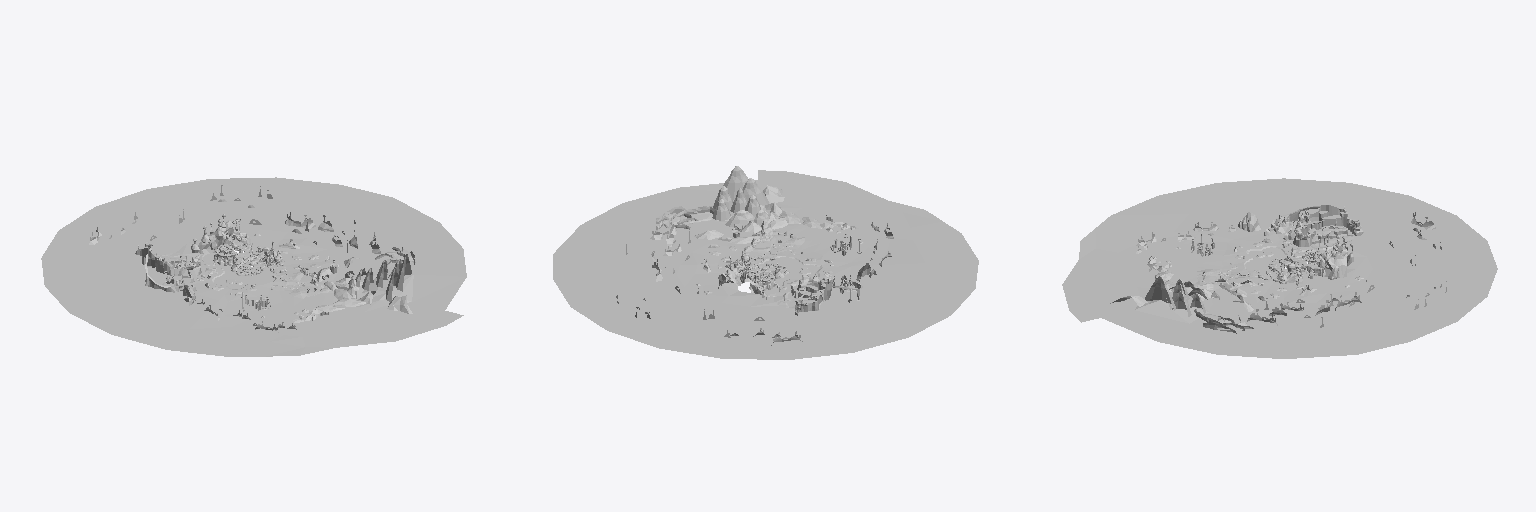
Rendered from [44F063C0] jf01_jellyfish_fields_jellyfish.obj.
3 renders of one model, left to right at view 1: azimuth 30°, elevation 25°; view 2: azimuth 150°, elevation 25°; view 3: azimuth 270°, elevation 25°, orthographic.
Parts seen in each view (by area): view 1: obj_ground_day3, obj_water_ver2, obj_rock_purple_ver3, obj_rock_purple, obj_grass, obj_sand_jfflds_wet, obj_rock_cracked_blue_03; view 2: obj_ground_day3, obj_water_ver2, obj_rock_purple_ver3, obj_rock_purple, obj_rock_cracked_blue_03, obj_grass, obj_sand_jfflds_wet, obj_ground_day; view 3: obj_ground_day3, obj_water_ver2, obj_rock_purple_ver3, obj_rock_purple, obj_grass, obj_rock_cracked_blue_03, obj_sand_jfflds_wet.
Part boxes in pixels (left/top/right/bottom): obj_ground_day3: left=41, top=177, right=466, bottom=356; obj_water_ver2: left=142, top=255, right=463, bottom=347; obj_rock_purple_ver3: left=134, top=185, right=355, bottom=300; obj_rock_purple: left=89, top=199, right=412, bottom=332; obj_grass: left=140, top=238, right=414, bottom=317; obj_sand_jfflds_wet: left=310, top=290, right=411, bottom=321; obj_rock_cracked_blue_03: left=348, top=259, right=411, bottom=301; obj_ground_day3: left=553, top=180, right=978, bottom=359; obj_water_ver2: left=758, top=170, right=901, bottom=310; obj_rock_purple_ver3: left=616, top=231, right=864, bottom=337; obj_rock_purple: left=643, top=185, right=893, bottom=345; obj_rock_cracked_blue_03: left=712, top=173, right=768, bottom=226; obj_grass: left=661, top=212, right=863, bottom=311; obj_sand_jfflds_wet: left=760, top=198, right=844, bottom=224; obj_ground_day: left=717, top=166, right=832, bottom=274; obj_ground_day3: left=1079, top=178, right=1497, bottom=358; obj_water_ver2: left=1062, top=213, right=1354, bottom=322; obj_rock_purple_ver3: left=1234, top=205, right=1446, bottom=327; obj_rock_purple: left=1110, top=212, right=1435, bottom=325; obj_grass: left=1166, top=211, right=1363, bottom=329; obj_rock_cracked_blue_03: left=1145, top=282, right=1212, bottom=316; obj_sand_jfflds_wet: left=1123, top=264, right=1167, bottom=309.
Bounding box in the file's own units: 985 × 123 × 1003.